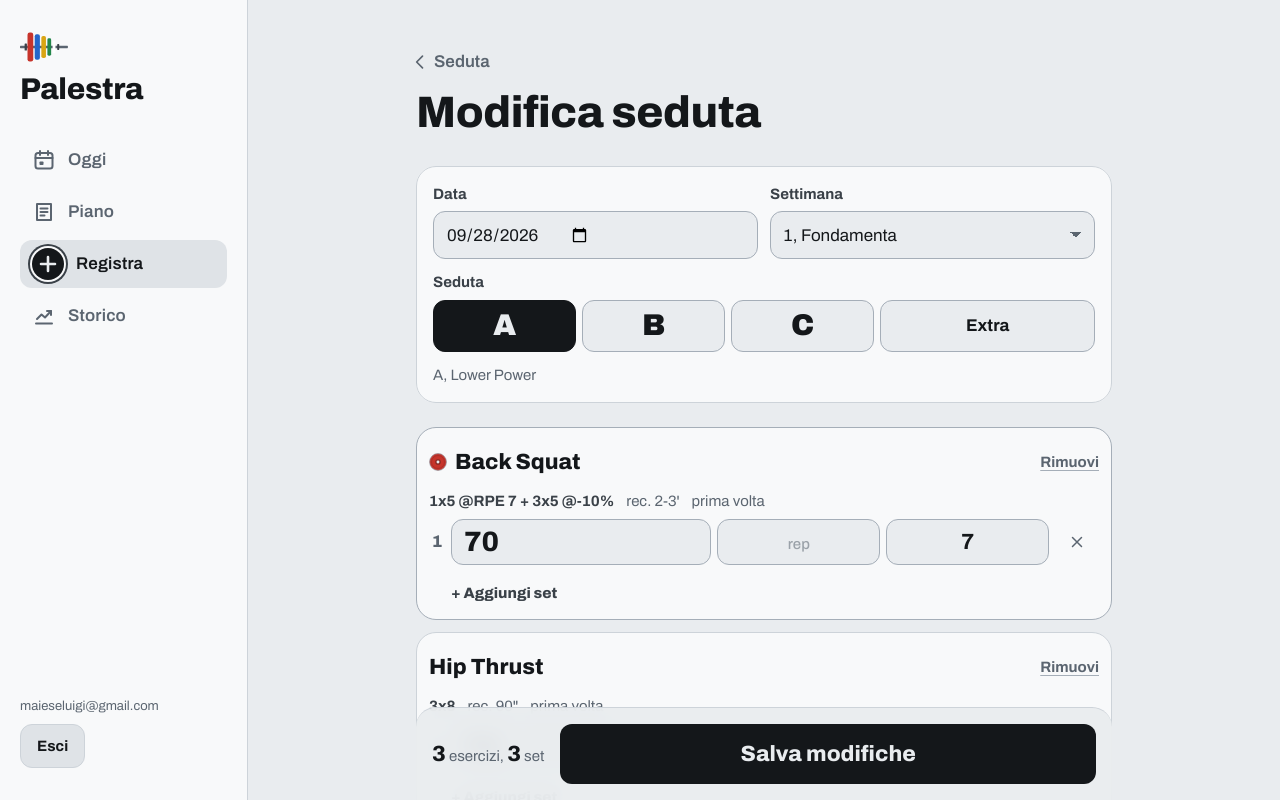
Test: Registra › edits an existing session in place and follows an id change
Expected: the field named "Back Squat, set 1, RPE" holds "7", [886,519,1049,565]
Expected: the date field labelled "Data" holds "2026-09-28", [433,211,758,259]
Replace the text in the field named "Back Squat, set 1, kg" with "72.5" at (581, 542), box [451,519,711,565]
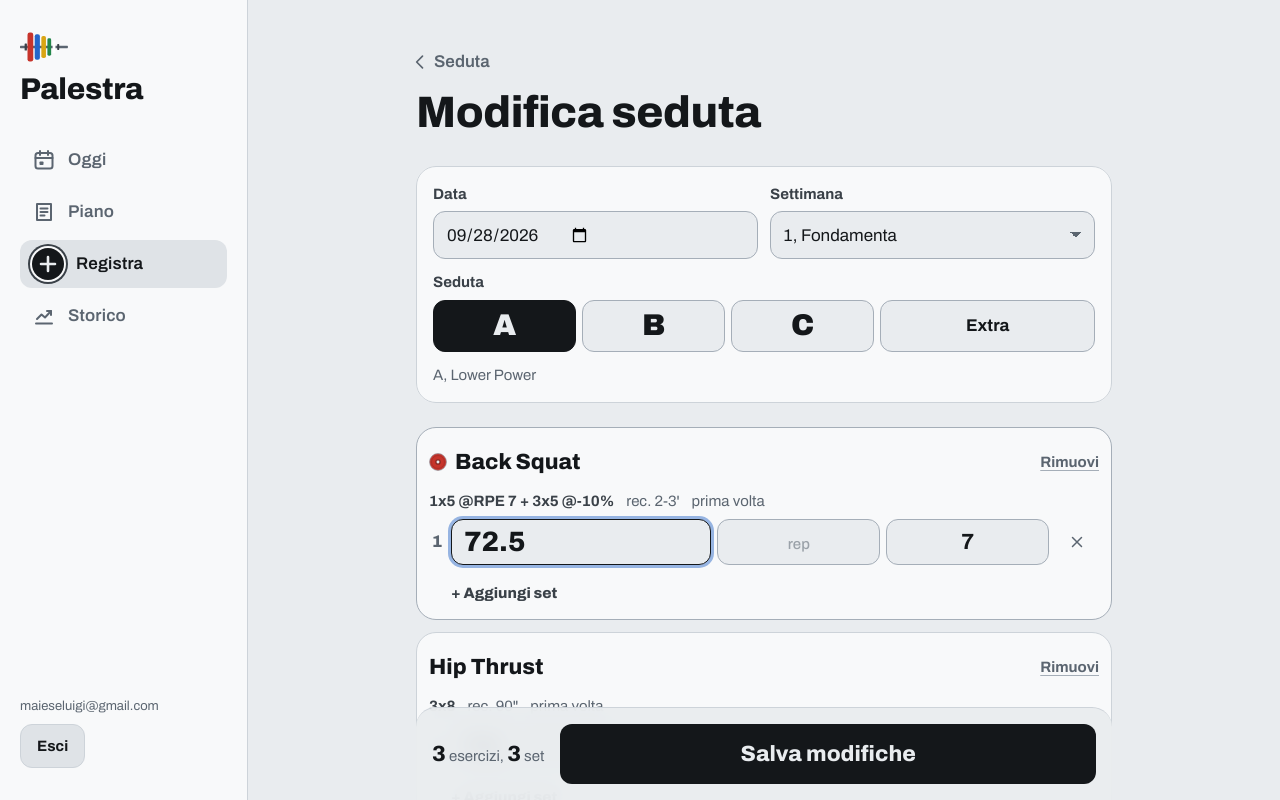
Click the button "Salva modifiche" at (828, 754), box [560,724,1096,784]
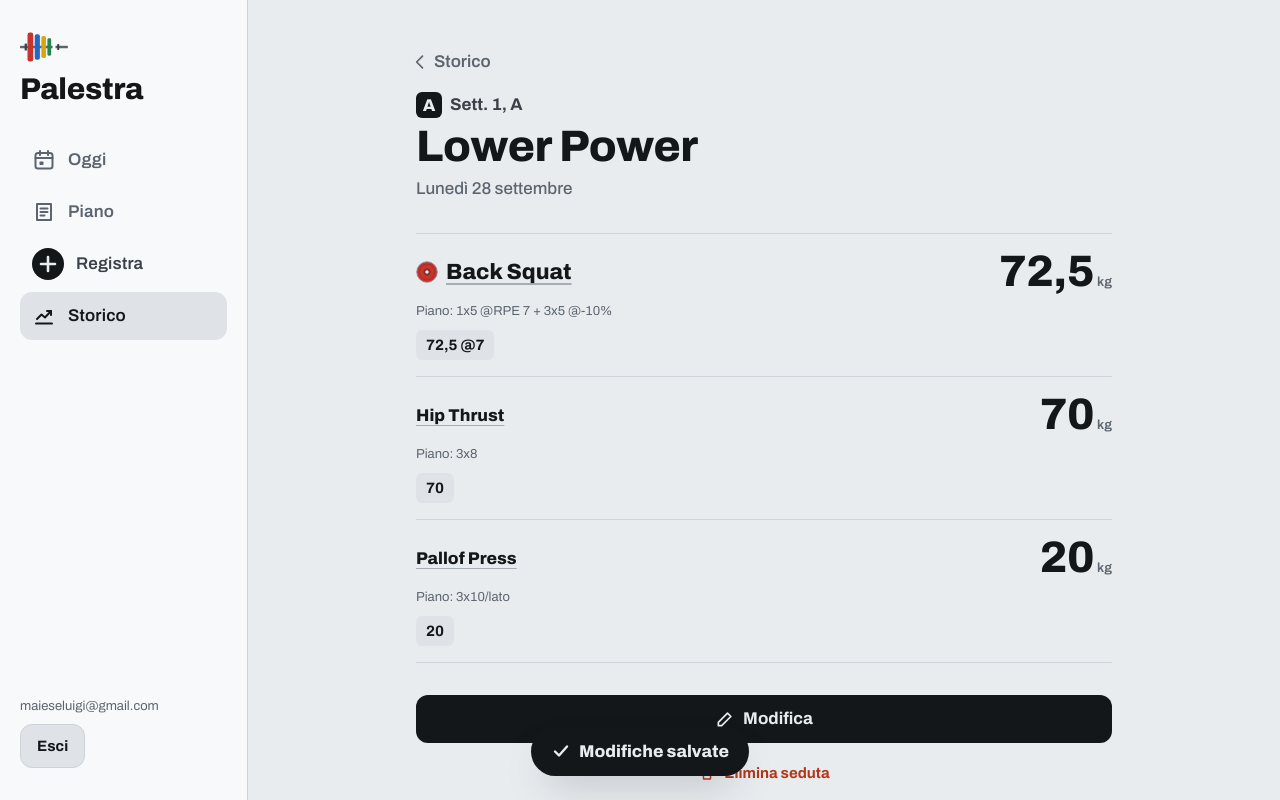
Expected: the text "Modifiche salvate" is shown, [579,738,729,764]
